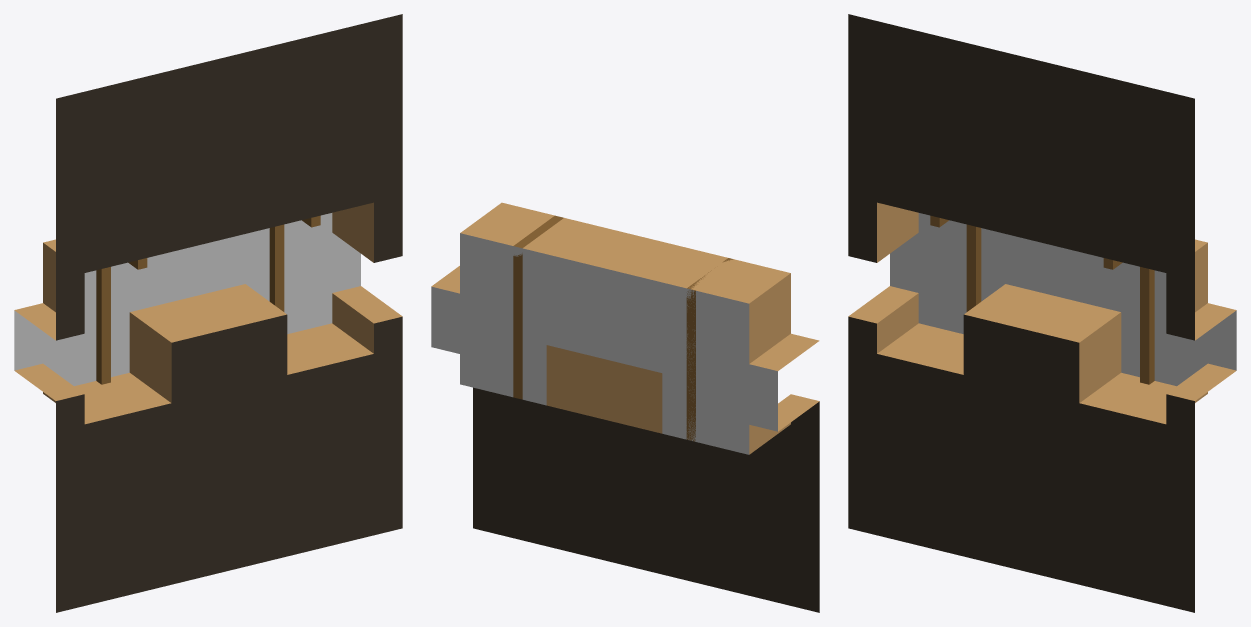
Rendered from Room-003.fbx.
The picture shows the model from 3 angles, left to right: view 1: azimuth 30°, elevation 25°; view 2: azimuth 150°, elevation 25°; view 3: azimuth 330°, elevation 25°; orthographic projection.
Visible parts, largest first — view 1: Room.000; view 2: Room.000; view 3: Room.000.
Part boxes in pixels (x1,y1,x2,y2): Room.000: (14,14,402,612); Room.000: (431,202,819,612); Room.000: (848,14,1236,612).
Size of the model in its own units: 2400 by 3400 by 500.
